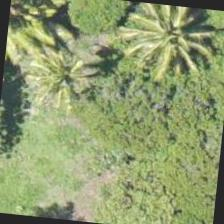Kelapa_Sawit: (13, 34, 112, 133), (116, 1, 213, 82)
